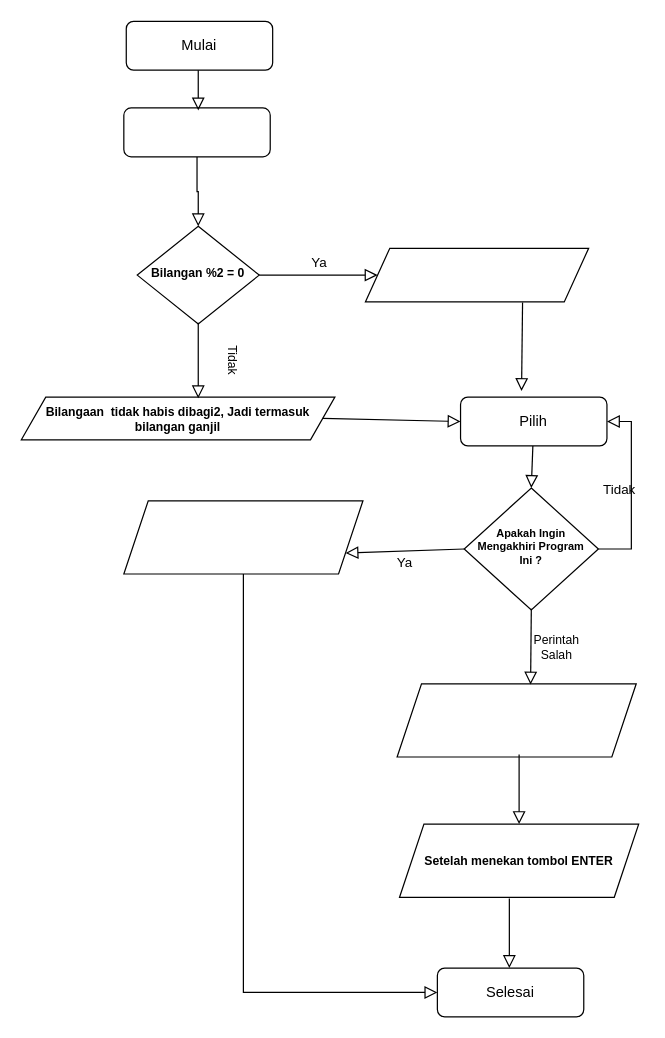
This 665x1038 diagram has some shape labels left out. The box of each missing label's shape, as (x1, y1, x2, y2) in pixels:
Bilangaan habis di bagi2, Jadi termasuk bilangan genap: (364, 247, 589, 302)
Masukan Bilangan Bulat: (123, 107, 270, 157)
Pilihan anda tidak tersedia, Silahkan ulangi lagi: (396, 683, 636, 757)
Yah, Kenapa anda Keluar: (123, 500, 363, 574)
